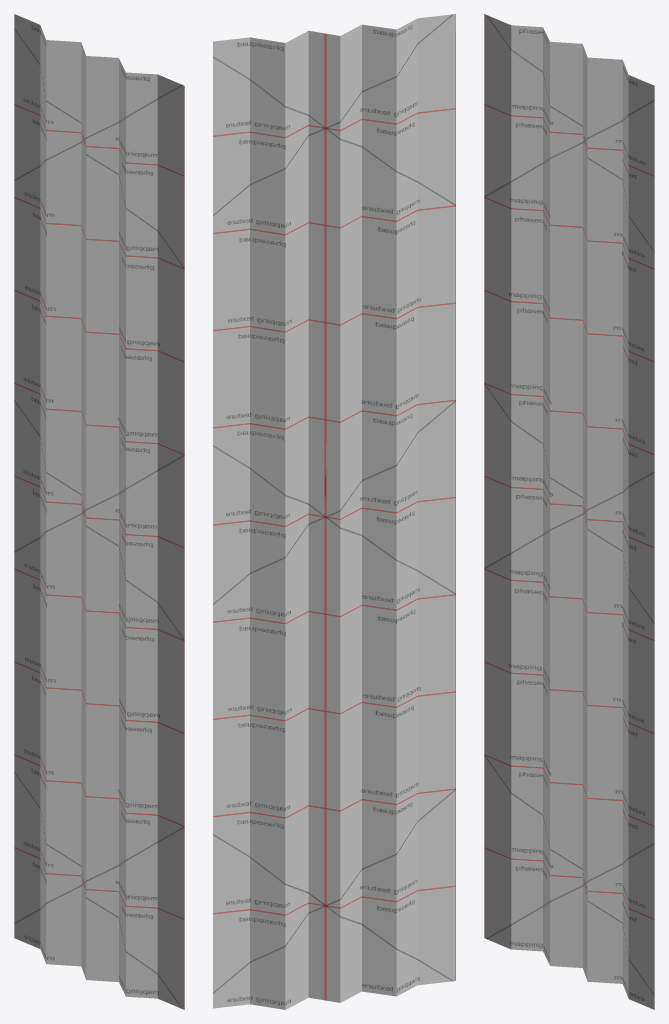
Rendered from BC_semi_b.FBX.
The picture shows the model from 3 angles, left to right: view 1: azimuth 90°, elevation 25°; view 2: azimuth 150°, elevation 25°; view 3: azimuth 270°, elevation 25°; orthographic projection. The views are drawn at different scales.
Parts seen in each view (by area): view 1: BC_semi_c; view 2: BC_semi_c; view 3: BC_semi_c.
Part boxes in pixels (x1,y1,x2,y2): BC_semi_c: (14, 14, 184, 1009); BC_semi_c: (213, 14, 455, 1009); BC_semi_c: (484, 14, 654, 1009).
Size of the model in its own units: 9.99 by 10 by 60.
